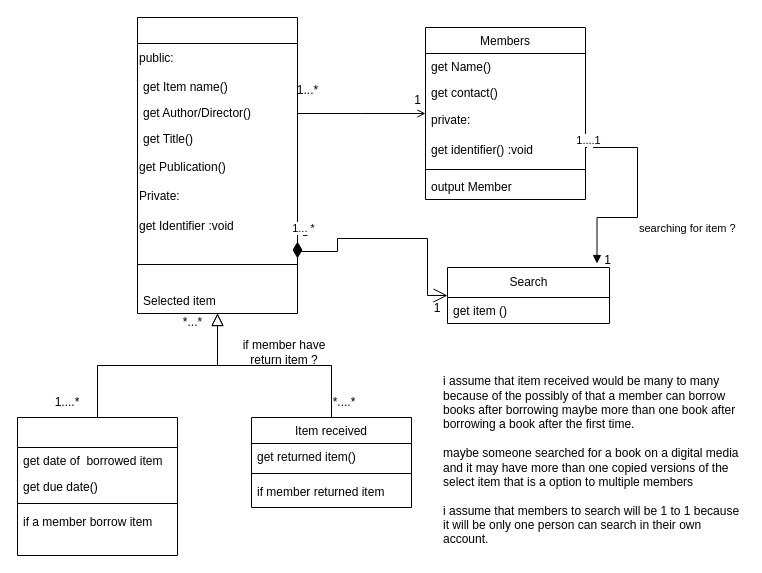
The diagram is 762 pixels wide and 573 high, and some of its shapes have lost their labels. Each missing label, with the box of its shape:
Item lend-ed: (16, 416, 178, 556)
Items: (136, 16, 298, 314)
